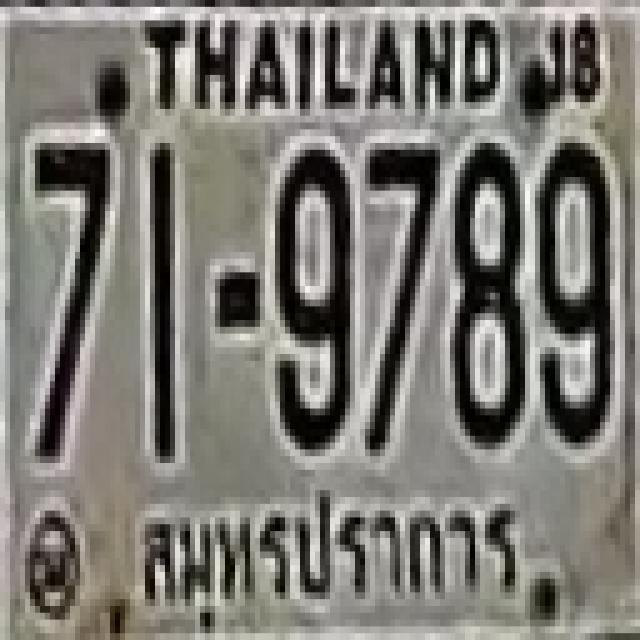0: (538, 136, 608, 415)
7: (30, 136, 105, 450), (360, 143, 435, 449), (365, 140, 435, 426), (365, 143, 435, 347), (365, 143, 435, 327)
8: (450, 136, 520, 443)
9: (272, 143, 348, 443), (535, 140, 610, 439)
SPK: (120, 477, 531, 636)
